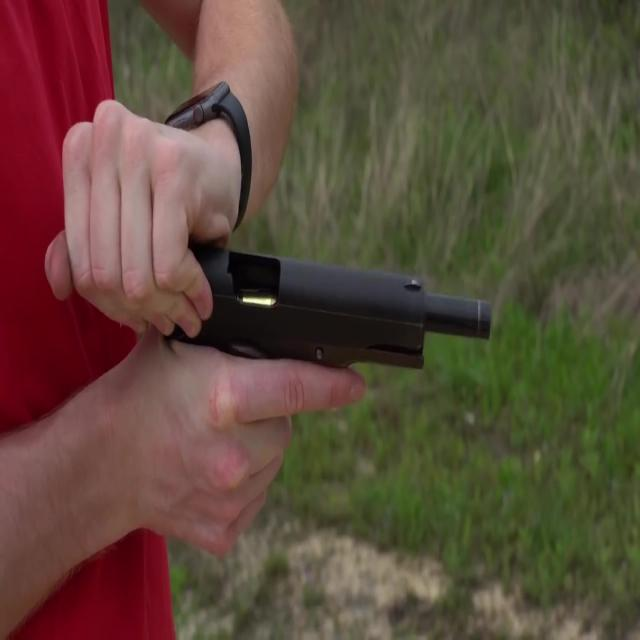Weapon: (102, 138, 514, 470)
